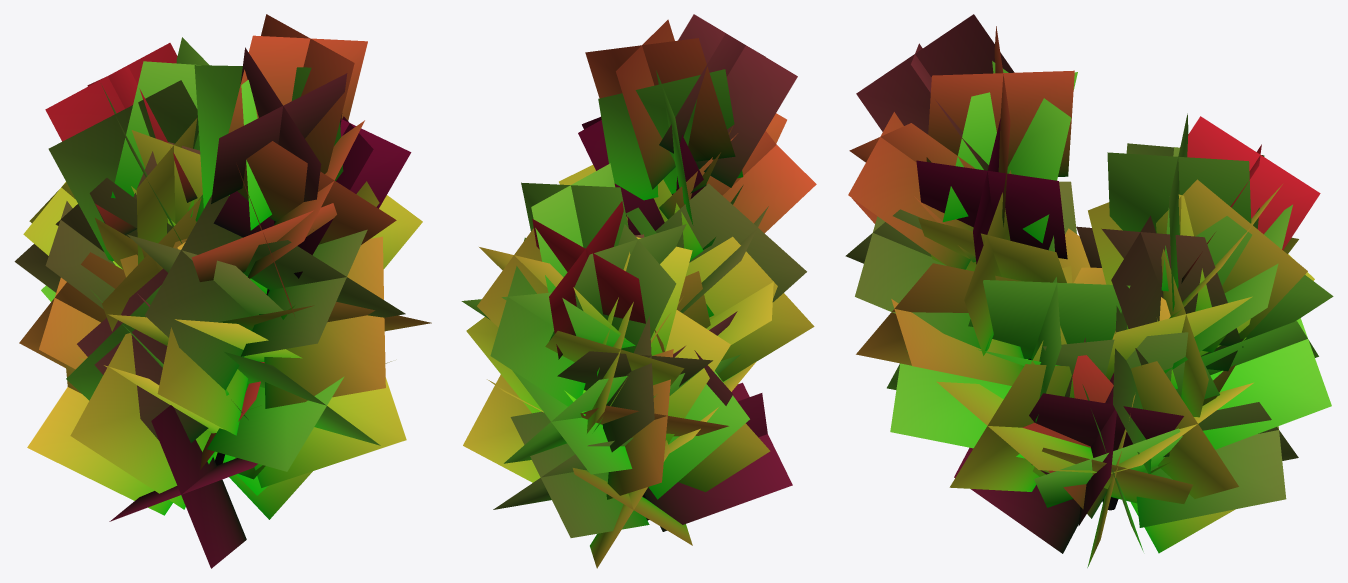
The model's file is Tree_12.fbx.
The picture shows the model from 3 angles, left to right: view 1: azimuth 30°, elevation 25°; view 2: azimuth 150°, elevation 25°; view 3: azimuth 270°, elevation 25°; orthographic projection. The views are drawn at different scales.
Visible parts, largest first — view 1: Tree_12; view 2: Tree_12; view 3: Tree_12.
Boxes of the visible parts, box(x1,y1,x2,y2) form: Tree_12: box(14, 14, 431, 568); Tree_12: box(461, 14, 816, 568); Tree_12: box(845, 14, 1333, 567).
Size of the model in its own units: 1081 by 1803 by 1541.
